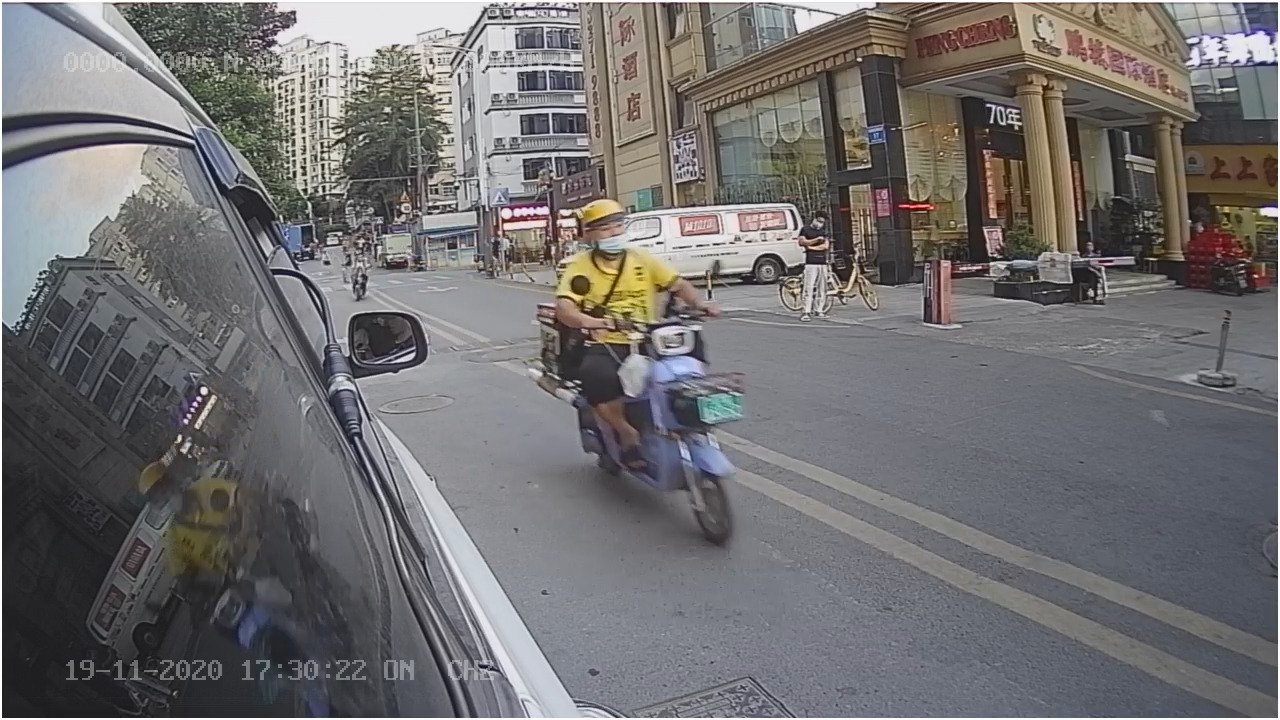person: (540, 197, 688, 324)
